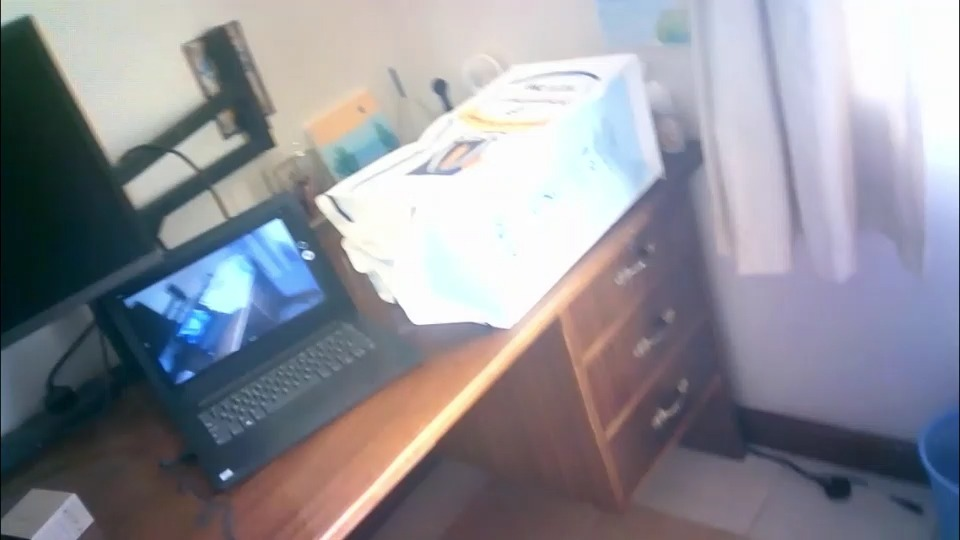wheat_flour_blue_label: (325, 55, 666, 326)
